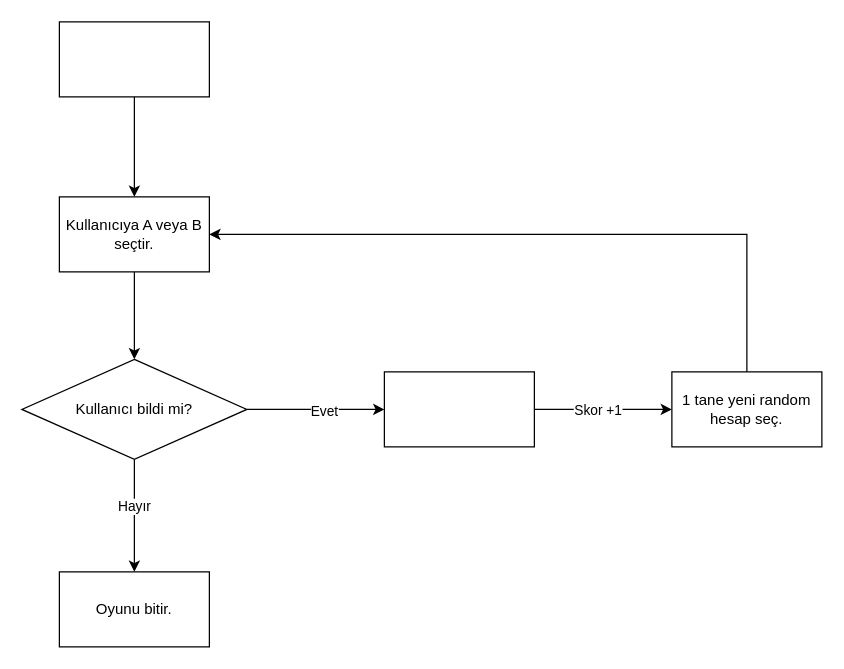
The diagram is 844 pixels wide and 669 high, and some of its shapes have lost their labels. The shapes that lost their labels are listed below. From the top down, each one's centre as x and y in pixels, then its label:
At [133,59]: "2 random hesap seç.".
At [458,409]: "2. hesabı 1. yap.".
